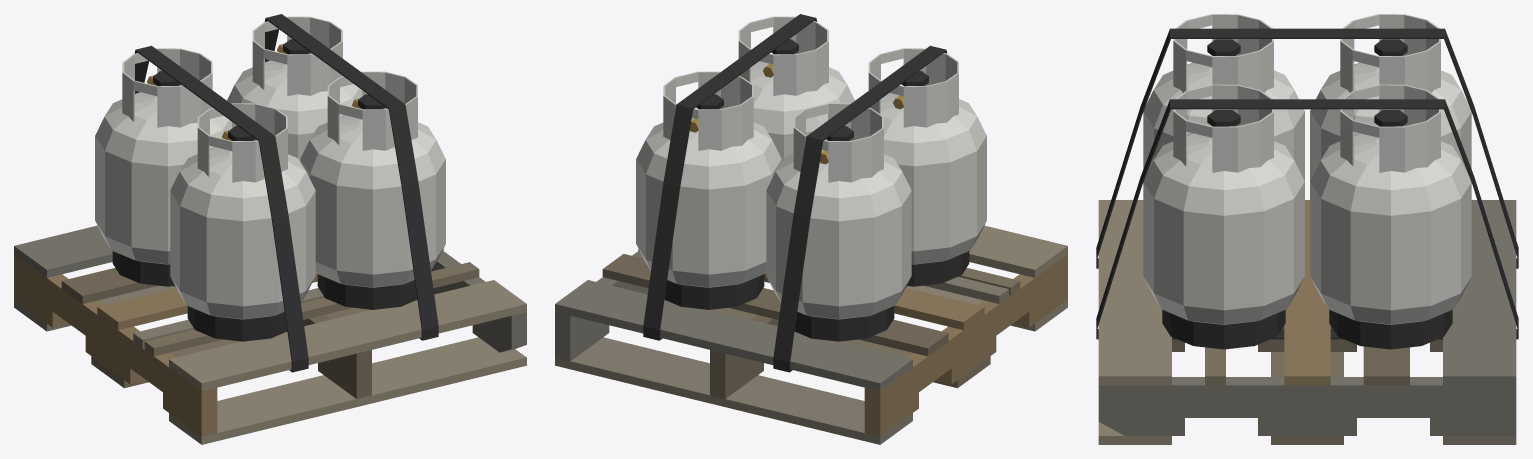
File: propane-pallet.glb
The picture shows the model from 3 angles, left to right: view 1: azimuth 30°, elevation 25°; view 2: azimuth 150°, elevation 25°; view 3: azimuth 270°, elevation 25°; orthographic projection. The views are drawn at different scales.
Visible parts, largest first — view 1: PropanePallet; view 2: PropanePallet; view 3: PropanePallet.
Part boxes in pixels (x1,y1,x2,y2): PropanePallet: (14,14,526,444); PropanePallet: (555,14,1067,444); PropanePallet: (1096,14,1518,444).
Size of the model in its own units: 0.8 by 0.61 by 0.81.
